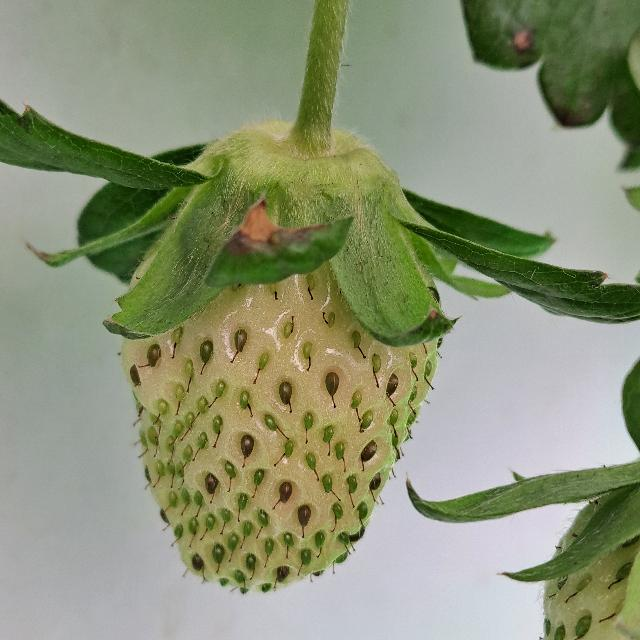Health_50: (120, 260, 442, 592)
